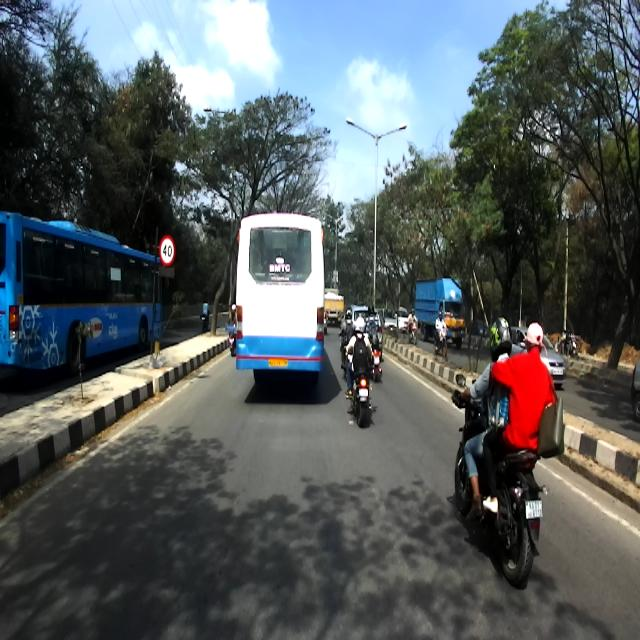bus ahead at: (234, 204, 327, 392)
motorcycle ahead at: (446, 440, 554, 586), (346, 367, 379, 435)
sign board ahead at: (146, 223, 178, 359)
